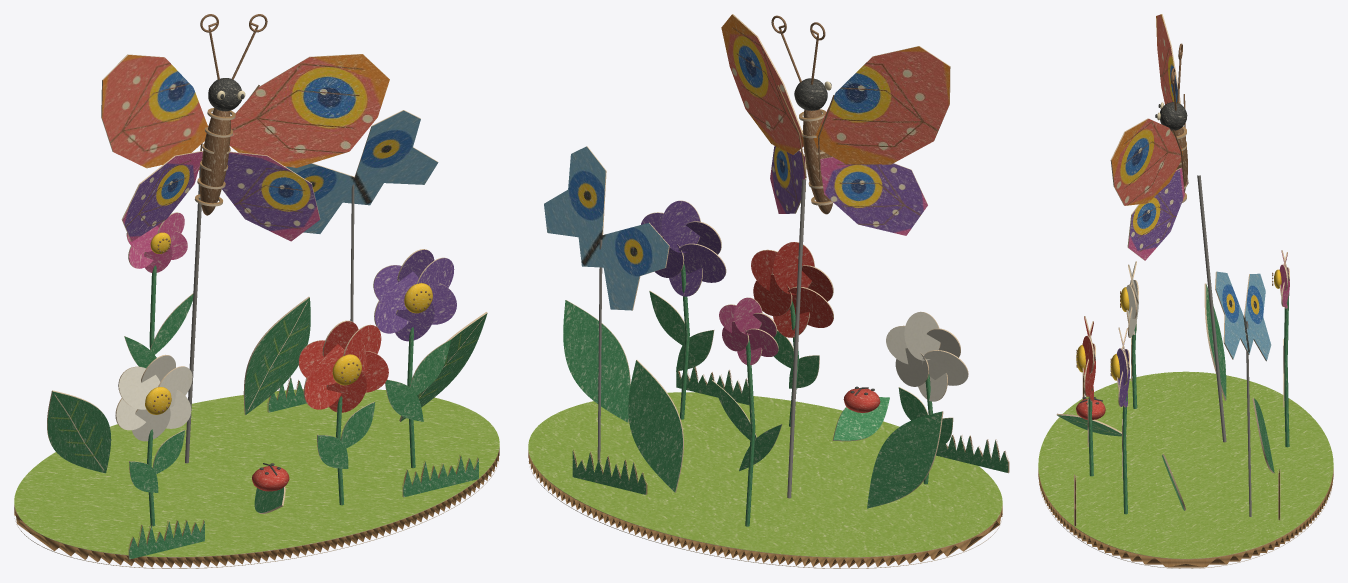
Rendered from 11_butterfly_meadow.glb.
3 views of the same model, side by side, from view 1: azimuth 30°, elevation 25°; view 2: azimuth 150°, elevation 25°; view 3: azimuth 270°, elevation 25° (orthographic). The views are drawn at different scales.
Visible parts, largest first — view 1: lime, artwork_11_butterfly_meadow, green, red, edge, purple, flute, white, brown, yellow, pink, wire (+1 smaller); view 2: lime, artwork_11_butterfly_meadow, green, red, edge, white, flute, purple, pink, brown, wire, black; view 3: lime, artwork_11_butterfly_meadow, edge, green, flute, wire, red, brown, yellow, black, purple, white.
Boxes of the visible parts, x1=… form: lime: x1=14, y1=389, x2=499, y2=556; artwork_11_butterfly_meadow: x1=47, y1=54, x2=487, y2=473; green: x1=124, y1=265, x2=478, y2=559; red: x1=252, y1=321, x2=388, y2=491; edge: x1=14, y1=54, x2=498, y2=568; purple: x1=374, y1=249, x2=456, y2=341; flute: x1=14, y1=378, x2=499, y2=567; white: x1=116, y1=355, x2=192, y2=441; brown: x1=153, y1=14, x2=431, y2=412; yellow: x1=145, y1=232, x2=432, y2=414; pink: x1=127, y1=213, x2=187, y2=272; wire: x1=185, y1=160, x2=354, y2=463; lime: x1=528, y1=392, x2=1002, y2=557; artwork_11_butterfly_meadow: x1=544, y1=14, x2=949, y2=310; green: x1=563, y1=263, x2=1008, y2=526; red: x1=751, y1=242, x2=880, y2=412; edge: x1=528, y1=14, x2=1009, y2=568; white: x1=886, y1=312, x2=967, y2=401; flute: x1=528, y1=367, x2=1009, y2=567; purple: x1=641, y1=201, x2=725, y2=296; pink: x1=719, y1=297, x2=778, y2=365; brown: x1=771, y1=15, x2=834, y2=214; wire: x1=597, y1=179, x2=805, y2=498; black: x1=794, y1=78, x2=874, y2=395; lime: x1=1038, y1=371, x2=1333, y2=558; artwork_11_butterfly_meadow: x1=1057, y1=14, x2=1271, y2=510; edge: x1=1038, y1=14, x2=1333, y2=568; green: x1=1088, y1=284, x2=1289, y2=514; flute: x1=1038, y1=374, x2=1333, y2=567; wire: x1=1197, y1=175, x2=1251, y2=516; red: x1=1076, y1=316, x2=1105, y2=419; brown: x1=1076, y1=43, x2=1273, y2=376; yellow: x1=1076, y1=269, x2=1281, y2=380; black: x1=1079, y1=102, x2=1187, y2=404; purple: x1=1117, y1=333, x2=1129, y2=407; white: x1=1126, y1=262, x2=1138, y2=337.
Bounding box in the file's own units: 0.48 × 0.4905 × 0.32.
16 materials, 14 textured.
